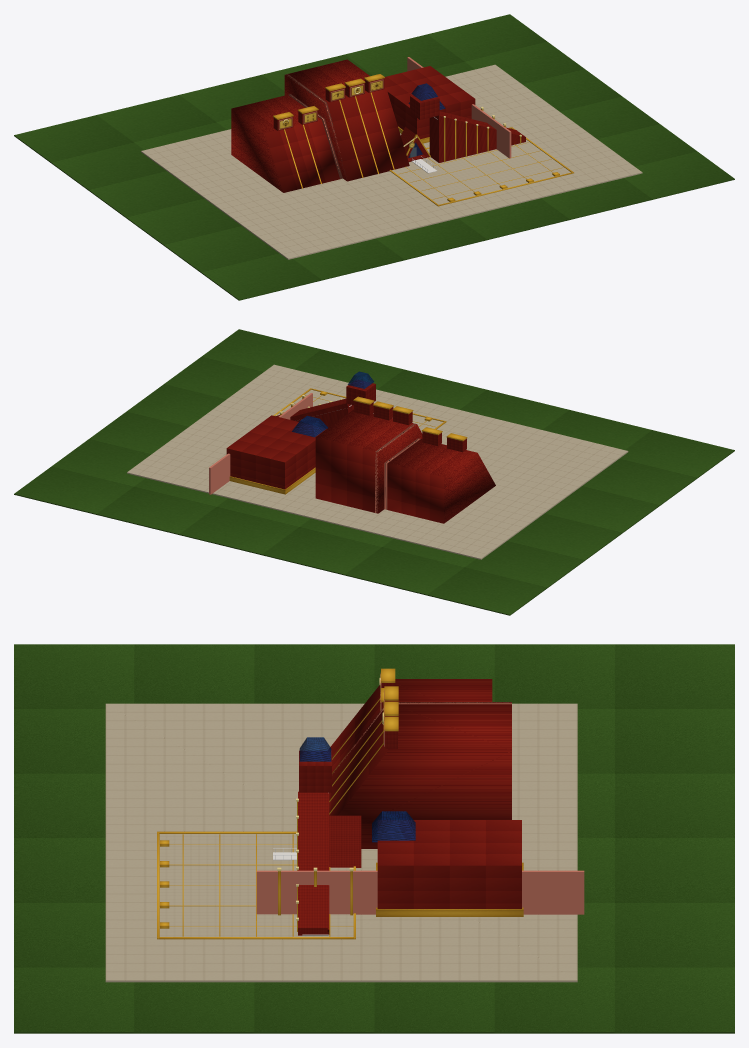
The model's file is sipan_v2.glb.
3 renders of one model, top to bottom at view 1: azimuth 30°, elevation 25°; view 2: azimuth 150°, elevation 25°; view 3: azimuth 270°, elevation 25°, orthographic. The views are drawn at different scales.
Parts seen in each view (by area): view 1: Terreno, Cuerpo_Central, Ala_Izquierda, Edificio, Rampa_Monumental, Frisos, Entrada_Triangular; view 2: Terreno, Cuerpo_Central, Edificio, Ala_Izquierda, Rampa_Monumental, Frisos; view 3: Terreno, Edificio, Cuerpo_Central, Rampa_Monumental, Ala_Izquierda, Entrada_Triangular, Frisos.
Boxes of the visible parts, <box> form: Terreno: <box>14,14,734,300</box>; Cuerpo_Central: <box>284,59,409,181</box>; Ala_Izquierda: <box>231,95,339,192</box>; Edificio: <box>284,57,511,188</box>; Rampa_Monumental: <box>410,83,525,162</box>; Frisos: <box>273,74,384,130</box>; Entrada_Triangular: <box>401,126,436,173</box>; Terreno: <box>14,329,734,615</box>; Cuerpo_Central: <box>315,409,422,513</box>; Edificio: <box>209,393,328,494</box>; Ala_Izquierda: <box>387,439,495,523</box>; Rampa_Monumental: <box>275,371,375,427</box>; Frisos: <box>353,396,467,452</box>; Terreno: <box>14,644,734,1033</box>; Edificio: <box>256,698,584,916</box>; Cuerpo_Central: <box>329,702,511,848</box>; Rampa_Monumental: <box>296,737,331,935</box>; Ala_Izquierda: <box>329,679,492,772</box>; Entrada_Triangular: <box>273,815,361,867</box>; Frisos: <box>379,668,398,748</box>.
Bounding box in the file's own units: 140 × 20.85 × 110.
Materials: 17 (11 with a texture image).
